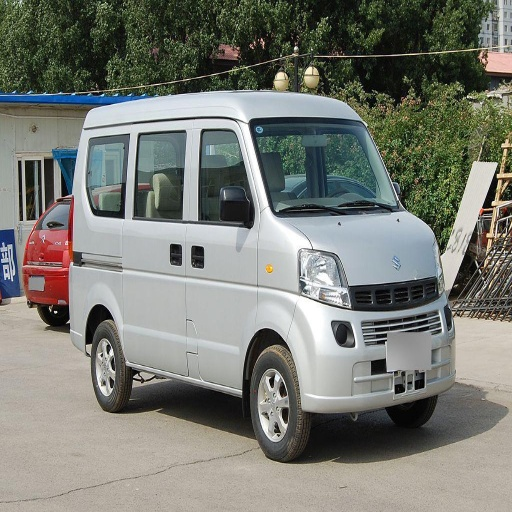back_right_door: (88, 125, 197, 371)
front_bumper: (290, 277, 455, 412)
front_right_door: (180, 125, 258, 385)
front_right_light: (298, 246, 350, 309)
trunk: (29, 238, 120, 338)
